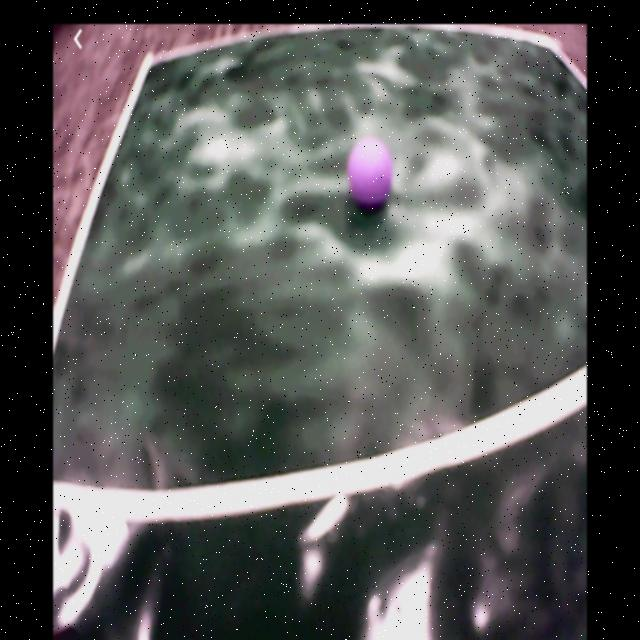ball: (348, 136, 394, 212)
